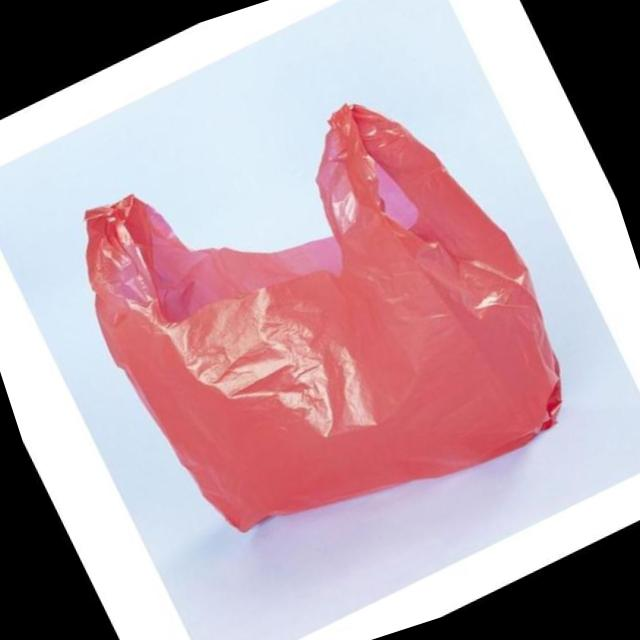KantongPlastik: (56, 64, 583, 564)
